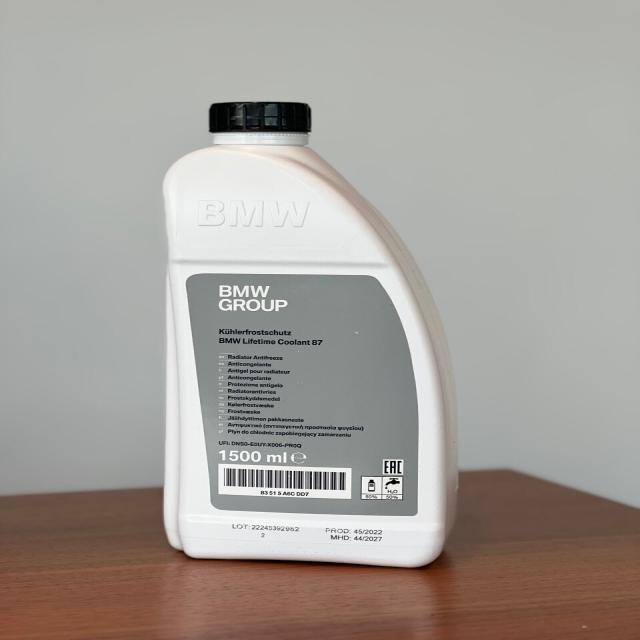coolant: (140, 93, 466, 568)
